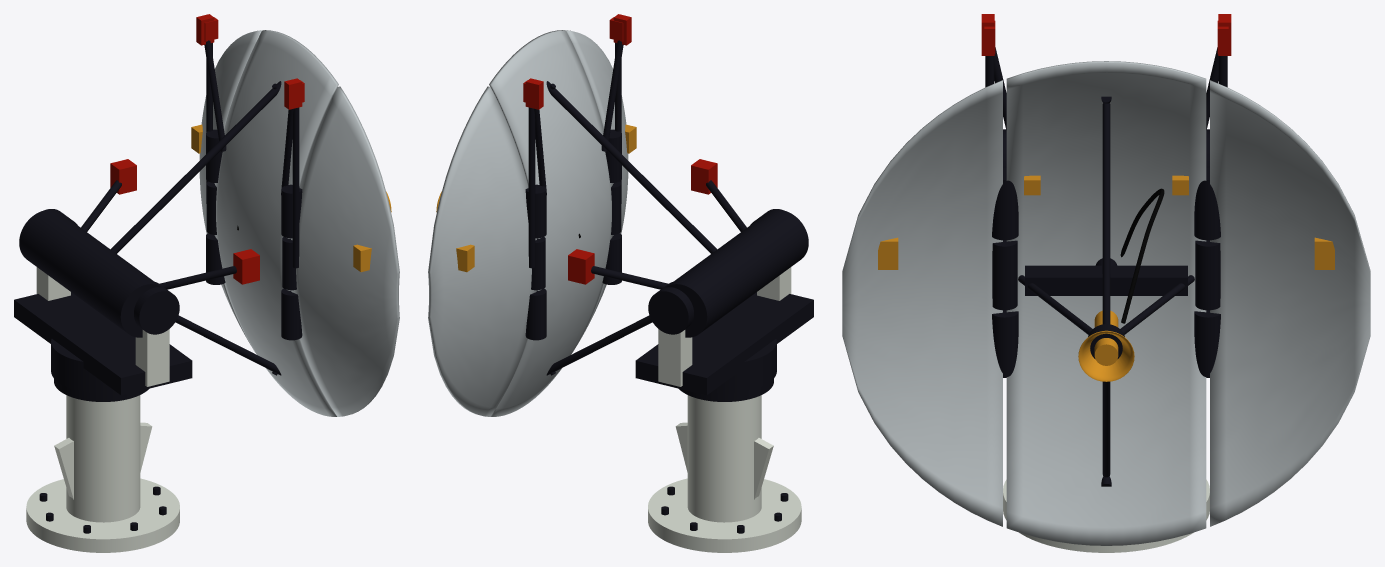
3 views of the same model, side by side, from view 1: azimuth 30°, elevation 25°; view 2: azimuth 150°, elevation 25°; view 3: azimuth 270°, elevation 25° (orthographic). The views are drawn at different scales.
Visible parts, largest first — view 1: /Asset/Links/left_reflector_petal/Visuals/left_petal_shell/G, /Asset/Links/rigid_center_dish/Visuals/center_reflector_shel, /Asset/Links/spacecraft_mounting_pedestal/Visuals/pedestal_c, /Asset/Links/rigid_center_dish/Visuals/elevation_trunnion/Ge, /Asset/Links/azimuth_yoke/Visuals/yoke_crossbeam/Geom, /Asset/Links/spacecraft_mounting_pedestal/Visuals/spacecraft, /Asset/Links/right_reflector_petal/Visuals/right_petal_shell, /Asset/Links/rigid_center_dish/Visuals/center_back_rib_upper, /Asset/Links/azimuth_yoke/Visuals/left_elevation_bearing/Geo, /Asset/Links/rigid_center_dish/Visuals/left_center_hinge_knu (×2), /Asset/Links/azimuth_yoke/Visuals/azimuth_rotor/Geom, /Asset/Links/azimuth_yoke/Visuals/left_yoke_cheek/Geom (+15 smaller); view 2: /Asset/Links/right_reflector_petal/Visuals/right_petal_shell, /Asset/Links/rigid_center_dish/Visuals/center_reflector_shel, /Asset/Links/spacecraft_mounting_pedestal/Visuals/pedestal_c, /Asset/Links/rigid_center_dish/Visuals/elevation_trunnion/Ge, /Asset/Links/azimuth_yoke/Visuals/yoke_crossbeam/Geom, /Asset/Links/spacecraft_mounting_pedestal/Visuals/spacecraft, /Asset/Links/left_reflector_petal/Visuals/left_petal_shell/G, /Asset/Links/rigid_center_dish/Visuals/center_back_rib_upper, /Asset/Links/azimuth_yoke/Visuals/right_elevation_bearing/Ge, /Asset/Links/rigid_center_dish/Visuals/right_center_hinge_kn (×2), /Asset/Links/azimuth_yoke/Visuals/azimuth_rotor/Geom, /Asset/Links/azimuth_yoke/Visuals/right_yoke_cheek/Geom (+15 smaller); view 3: /Asset/Links/rigid_center_dish/Visuals/center_reflector_shel, /Asset/Links/left_reflector_petal/Visuals/left_petal_shell/G, /Asset/Links/right_reflector_petal/Visuals/right_petal_shell, /Asset/Links/central_feed_and_struts/Visuals/feed_backframe_, /Asset/Links/central_feed_and_struts/Visuals/feed_support_st (×4), /Asset/Links/rigid_center_dish/Visuals/right_center_hinge_kn (×2), /Asset/Links/rigid_center_dish/Visuals/left_center_hinge_knu (×2), /Asset/Links/left_reflector_petal/Visuals/left_locking_hinge, /Asset/Links/right_reflector_petal/Visuals/right_locking_hin, /Asset/Links/central_feed_and_struts/Visuals/central_feed_ho, /Asset/Links/spacecraft_mounting_pedestal/Visuals/spacecraft, /Asset/Links/rf_service_cable/Visuals/rf_service_cable_rest_ (+3 smaller).
Boxes of the visible parts, x1,y1,x2,y2 form: /Asset/Links/left_reflector_petal/Visuals/left_petal_shell/G: (291, 86, 399, 416); /Asset/Links/rigid_center_dish/Visuals/center_reflector_shel: (215, 30, 338, 416); /Asset/Links/spacecraft_mounting_pedestal/Visuals/pedestal_c: (66, 395, 140, 522); /Asset/Links/rigid_center_dish/Visuals/elevation_trunnion/Ge: (19, 209, 161, 337); /Asset/Links/azimuth_yoke/Visuals/yoke_crossbeam/Geom: (14, 292, 192, 395); /Asset/Links/spacecraft_mounting_pedestal/Visuals/spacecraft: (26, 478, 179, 552); /Asset/Links/right_reflector_petal/Visuals/right_petal_shell: (199, 30, 262, 344); /Asset/Links/rigid_center_dish/Visuals/center_back_rib_upper: (110, 81, 281, 253); /Asset/Links/azimuth_yoke/Visuals/left_elevation_bearing/Geo: (134, 282, 179, 334); /Asset/Links/rigid_center_dish/Visuals/left_center_hinge_knu (×2): (281, 184, 302, 340); /Asset/Links/azimuth_yoke/Visuals/azimuth_rotor/Geom: (51, 339, 116, 393); /Asset/Links/azimuth_yoke/Visuals/left_yoke_cheek/Geom: (135, 329, 169, 386); /Asset/Links/right_reflector_petal/Visuals/right_petal_shell: (428, 86, 536, 416); /Asset/Links/rigid_center_dish/Visuals/center_reflector_shel: (489, 30, 612, 416); /Asset/Links/spacecraft_mounting_pedestal/Visuals/pedestal_c: (687, 395, 761, 522); /Asset/Links/rigid_center_dish/Visuals/elevation_trunnion/Ge: (666, 209, 808, 337); /Asset/Links/azimuth_yoke/Visuals/yoke_crossbeam/Geom: (635, 292, 813, 395); /Asset/Links/spacecraft_mounting_pedestal/Visuals/spacecraft: (648, 478, 801, 552); /Asset/Links/left_reflector_petal/Visuals/left_petal_shell/G: (565, 30, 628, 344); /Asset/Links/rigid_center_dish/Visuals/center_back_rib_upper: (546, 81, 717, 253); /Asset/Links/azimuth_yoke/Visuals/right_elevation_bearing/Ge: (648, 282, 693, 334); /Asset/Links/rigid_center_dish/Visuals/right_center_hinge_kn (×2): (525, 184, 546, 340); /Asset/Links/azimuth_yoke/Visuals/azimuth_rotor/Geom: (711, 339, 776, 393); /Asset/Links/azimuth_yoke/Visuals/right_yoke_cheek/Geom: (658, 329, 692, 386); /Asset/Links/rigid_center_dish/Visuals/center_reflector_shel: (1006, 61, 1206, 545); /Asset/Links/left_reflector_petal/Visuals/left_petal_shell/G: (842, 80, 1002, 526); /Asset/Links/right_reflector_petal/Visuals/right_petal_shell: (1210, 80, 1370, 526); /Asset/Links/central_feed_and_struts/Visuals/feed_backframe_: (1025, 265, 1187, 295); /Asset/Links/central_feed_and_struts/Visuals/feed_support_st (×4): (1018, 103, 1194, 477); /Asset/Links/rigid_center_dish/Visuals/right_center_hinge_kn (×2): (1194, 168, 1220, 377); /Asset/Links/rigid_center_dish/Visuals/left_center_hinge_knu (×2): (992, 168, 1018, 377); /Asset/Links/left_reflector_petal/Visuals/left_locking_hinge: (992, 240, 1017, 310); /Asset/Links/right_reflector_petal/Visuals/right_locking_hin: (1195, 240, 1220, 310); /Asset/Links/central_feed_and_struts/Visuals/central_feed_ho: (1078, 330, 1134, 381); /Asset/Links/spacecraft_mounting_pedestal/Visuals/spacecraft: (1003, 479, 1209, 552); /Asset/Links/rf_service_cable/Visuals/rf_service_cable_rest_: (1120, 188, 1164, 323).
Bounding box in the file's own units: 1.45 × 1.75 × 1.43.
